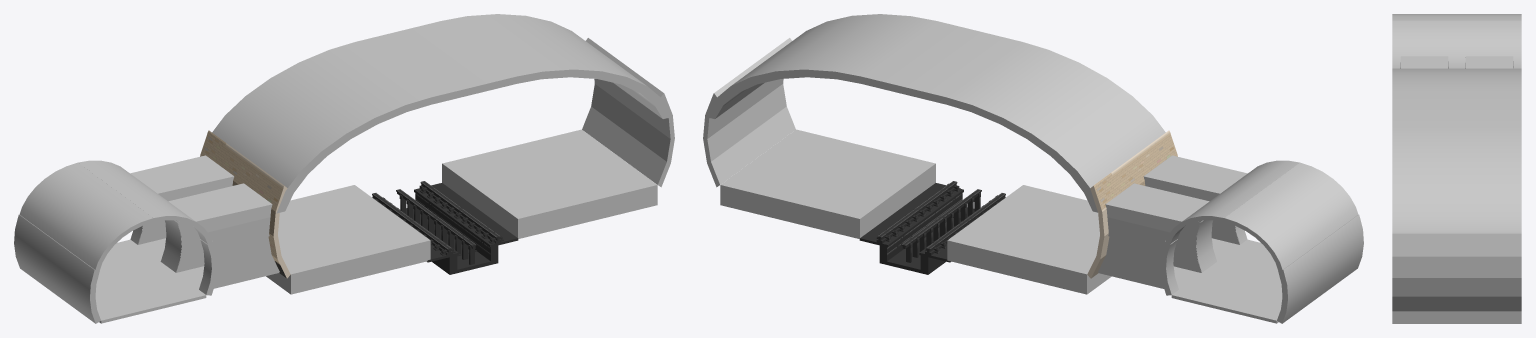
The model's file is stage_2.fbx.
The picture shows the model from 3 angles, left to right: view 1: azimuth 30°, elevation 25°; view 2: azimuth 150°, elevation 25°; view 3: azimuth 270°, elevation 25°; orthographic projection. The views are drawn at different scales.
Parts seen in each view (by area): view 1: Cylinder.042, Grid.005, Cylinder.017, Grid.099, Cylinder.065, Cylinder.018, Grid.089, Cylinder.064, Cube.002, Grid.052, Cube.001, Cylinder.051 (+9 smaller); view 2: Cylinder.042, Grid.005, Cylinder.017, Grid.099, Cylinder.065, Cylinder.018, Grid.089, Cylinder.064, Cube.027, Grid.052, Cube.030, Cylinder.051 (+9 smaller); view 3: Cylinder.017, Cylinder.018, Cylinder.042, Cylinder.049, Grid.005, Cylinder.065, Cube.002, Cube.027.
Part boxes in pixels (x1,y1,x2,y2): Cylinder.042: (212, 31, 473, 213); Grid.005: (442, 129, 657, 238); Cylinder.017: (398, 14, 670, 118); Grid.099: (266, 185, 430, 294); Cylinder.065: (19, 162, 153, 271); Cylinder.018: (582, 38, 674, 187); Grid.089: (95, 239, 206, 323); Cylinder.064: (14, 214, 100, 323); Cube.002: (168, 183, 272, 249); Grid.052: (385, 183, 518, 274); Cube.001: (176, 221, 279, 287); Cylinder.051: (200, 130, 290, 278); Cylinder.042: (904, 31, 1165, 212); Grid.005: (720, 129, 935, 238); Cylinder.017: (706, 14, 979, 118); Grid.099: (947, 185, 1111, 294); Cylinder.065: (1224, 162, 1358, 271); Cylinder.018: (703, 38, 795, 187); Grid.089: (1171, 239, 1282, 323); Cylinder.064: (1277, 214, 1363, 323); Cube.027: (1105, 183, 1209, 249); Grid.052: (859, 183, 994, 274); Cube.030: (1098, 221, 1201, 287); Cylinder.051: (1087, 130, 1177, 278); Cylinder.017: (1392, 109, 1521, 232); Cylinder.018: (1392, 232, 1521, 311); Cylinder.042: (1392, 68, 1521, 108); Cylinder.049: (1392, 20, 1521, 68); Grid.005: (1392, 311, 1521, 323); Cylinder.065: (1392, 14, 1521, 20); Cube.002: (1400, 56, 1448, 68); Cube.027: (1465, 56, 1513, 68).
Size of the model in its own units: 2068 by 615 by 464.
